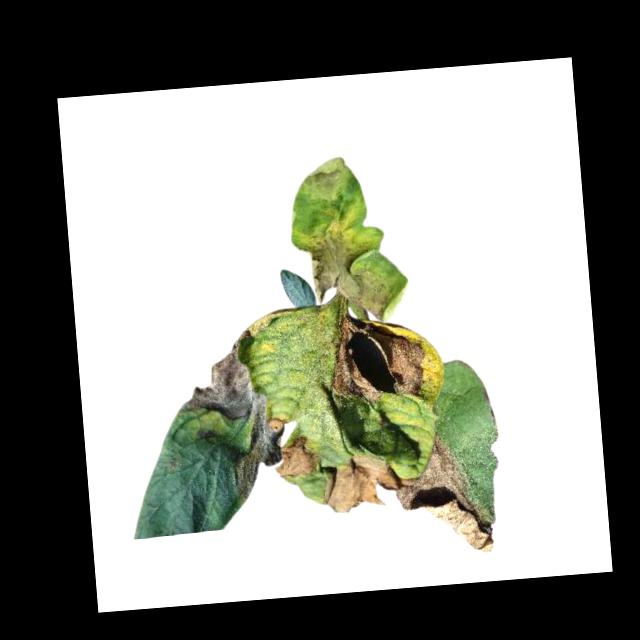Late_blight: (389, 428, 496, 561), (325, 309, 429, 408), (306, 219, 391, 328), (176, 338, 257, 423), (227, 394, 292, 499), (319, 449, 419, 514), (292, 154, 352, 208), (271, 434, 321, 482)
